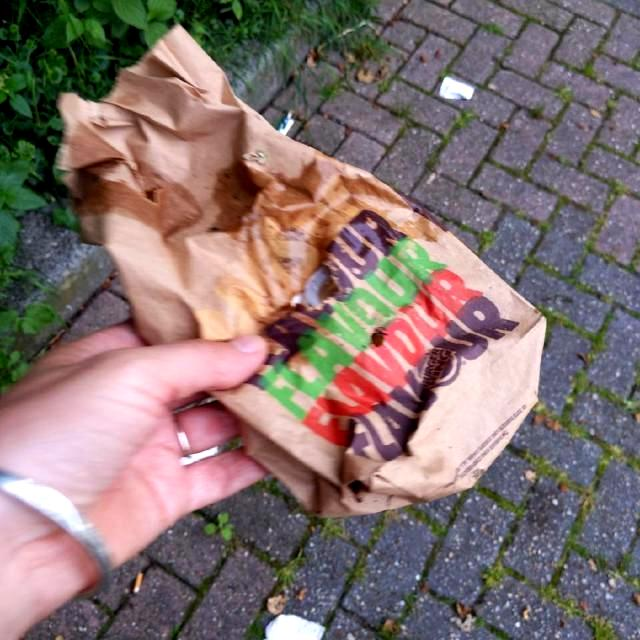Paper: (51, 20, 548, 522)
